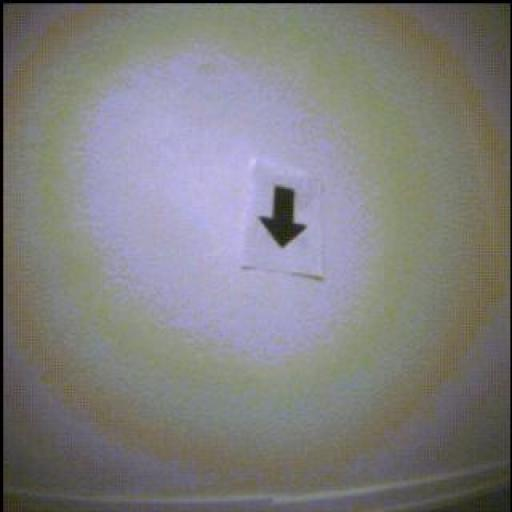arrow: (260, 187, 307, 248)
